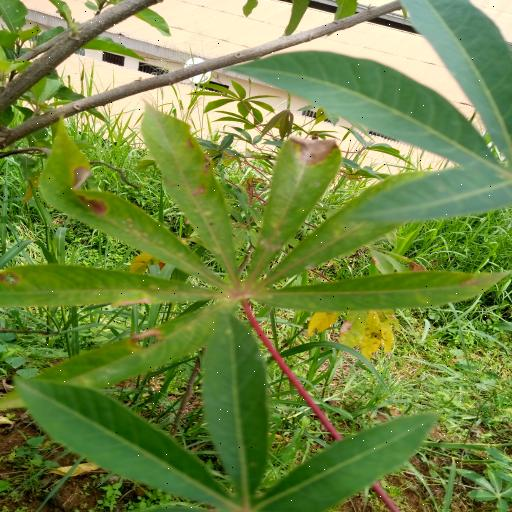Cassava_Brown_Leaf_Spot: (2, 107, 512, 418)
